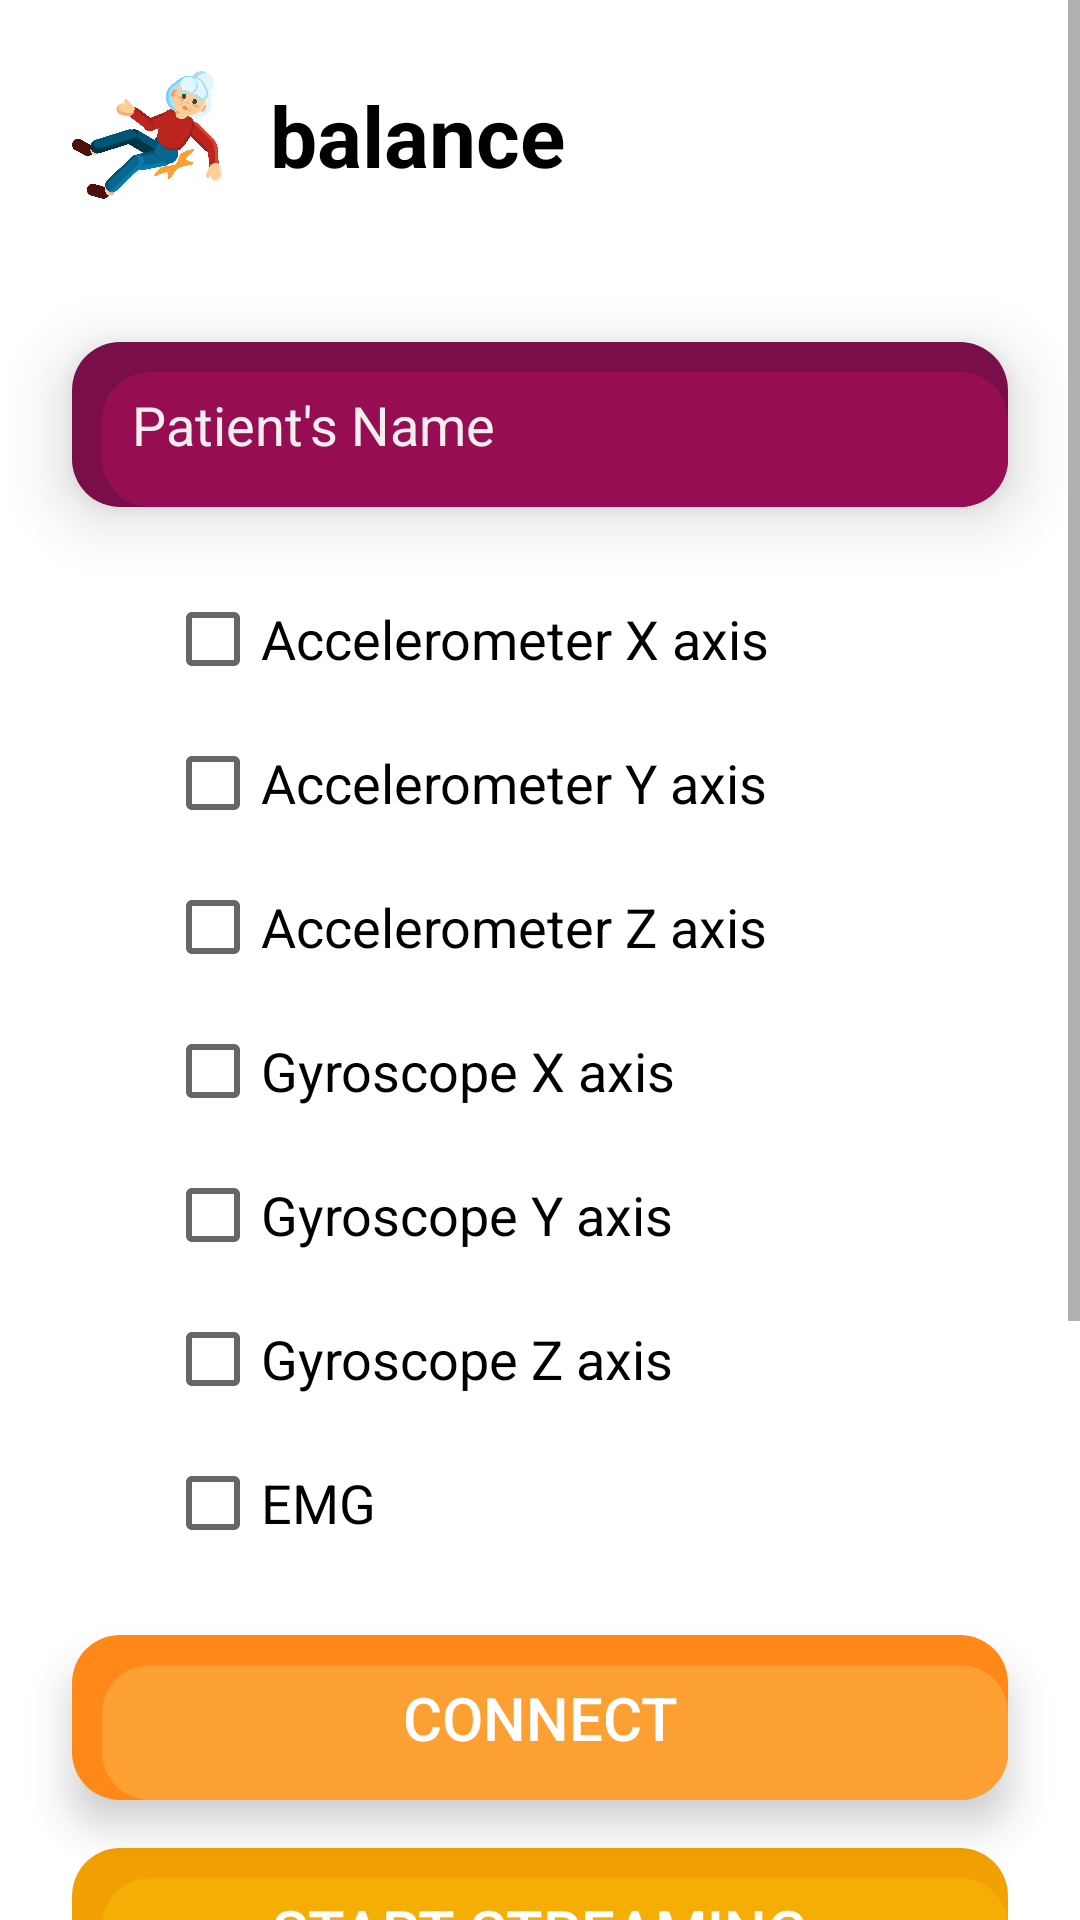

Named icons in this screenshot (1080x1920) and their centers, (x,y):
fall: (147,135)
